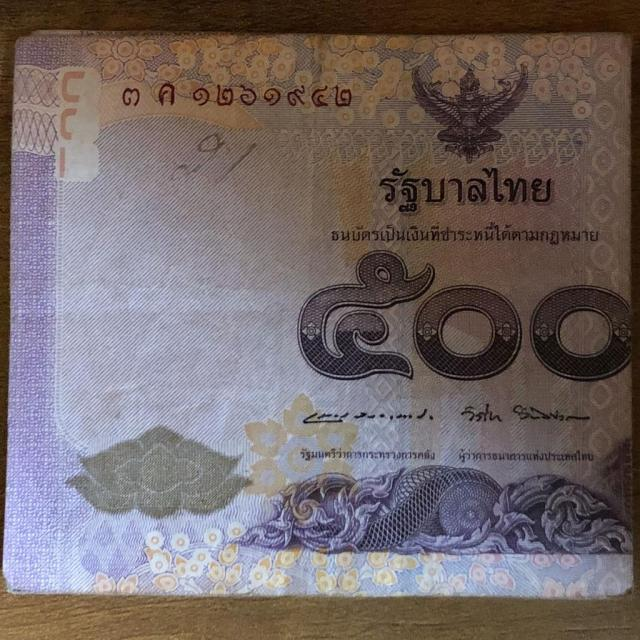THAI500: (0, 31, 634, 608)
